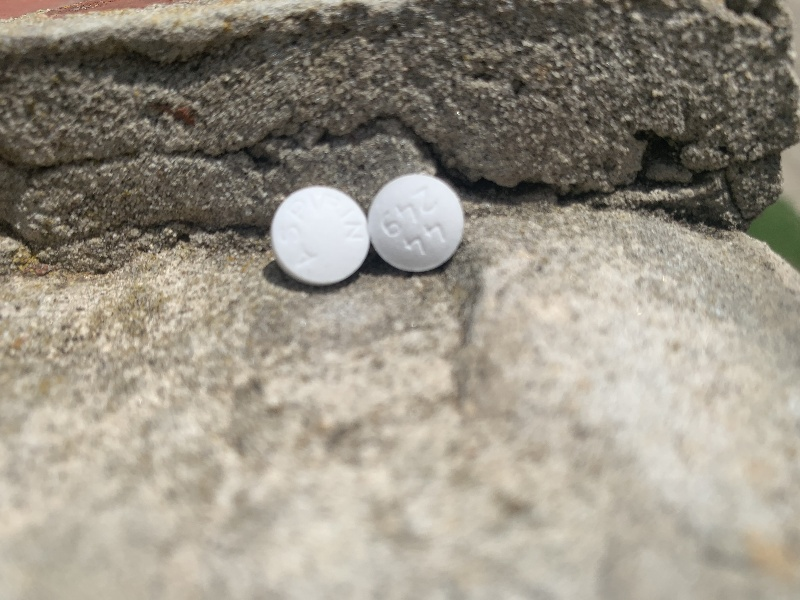Aspirin: (266, 182, 372, 293), (367, 173, 469, 277)
